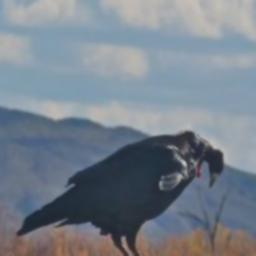Crow: (14, 127, 225, 256)
